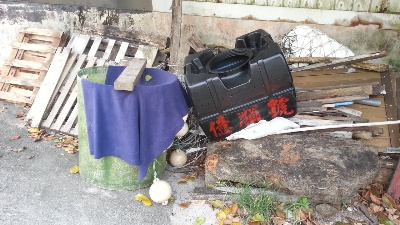bucket: (182, 28, 299, 144), (77, 62, 178, 192)
